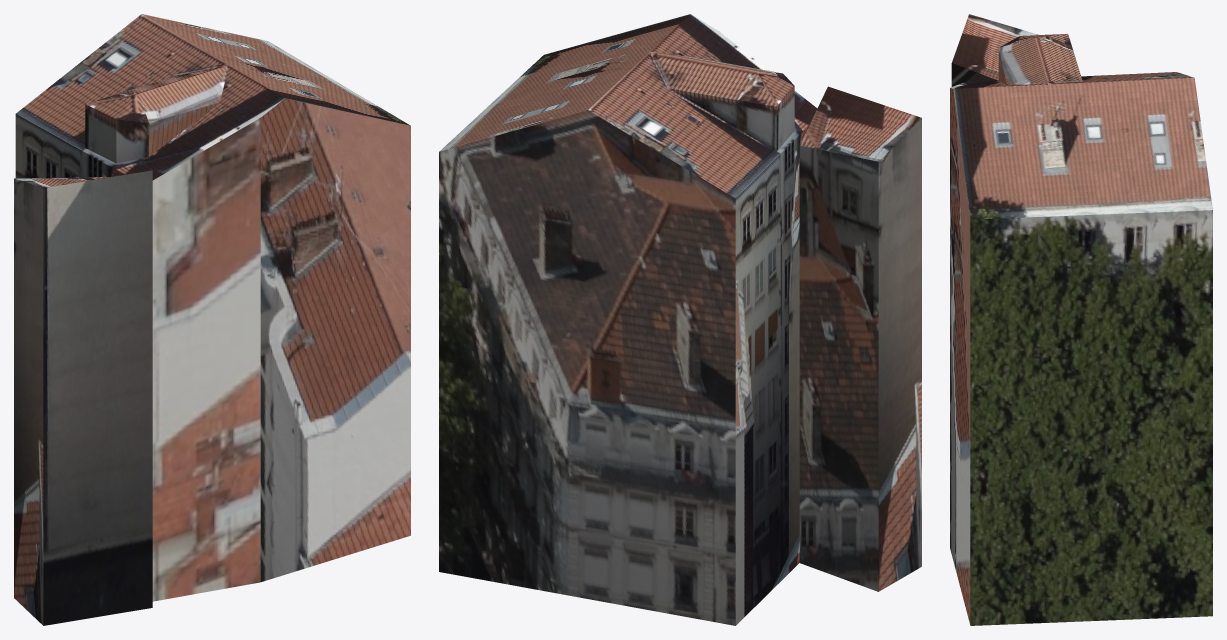
The picture shows the model from 3 angles, left to right: view 1: azimuth 30°, elevation 25°; view 2: azimuth 150°, elevation 25°; view 3: azimuth 270°, elevation 25°; orthographic projection. The views are drawn at different scales.
Visible parts, largest first — view 1: Z_UP; view 2: Z_UP; view 3: Z_UP.
Boxes of the visible parts, bbox=[...] form: Z_UP: bbox=[14, 14, 410, 625]; Z_UP: bbox=[439, 14, 921, 625]; Z_UP: bbox=[950, 14, 1212, 625].
Size of the model in its own units: 21.83 by 27.03 by 13.63.
Materials: 2 (1 with a texture image).
